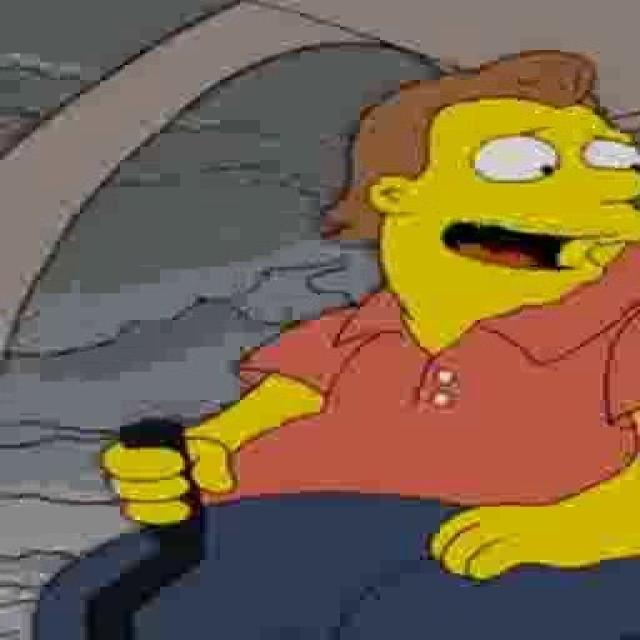Barney Gumble: (315, 50, 640, 343)
